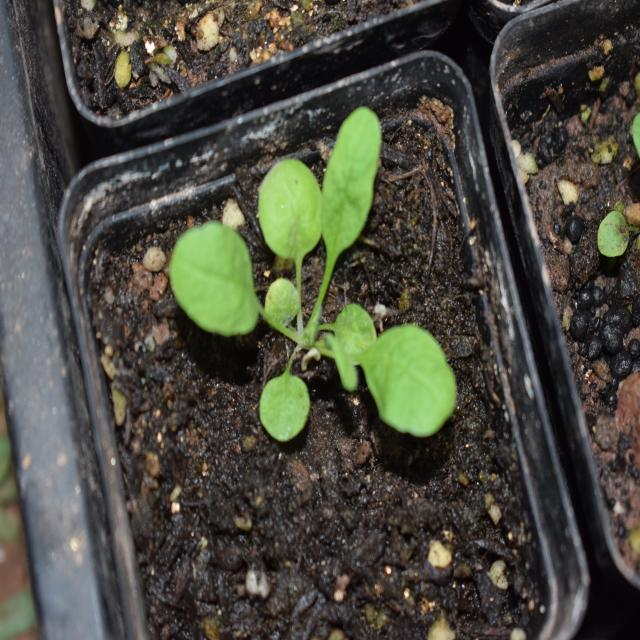Shepherd_Purse: (169, 105, 466, 456)
